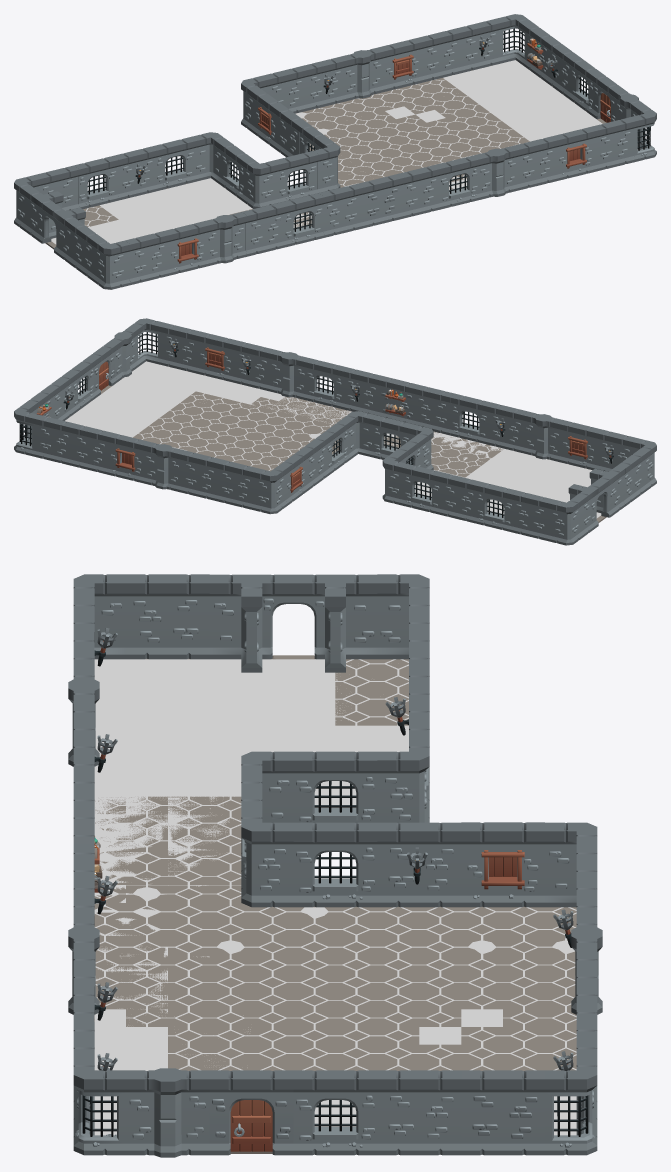
Rendered from Map_01.fbx.
3 views of the same model, one above another, from view 1: azimuth 30°, elevation 25°; view 2: azimuth 150°, elevation 25°; view 3: azimuth 270°, elevation 25° (orthographic). The views are drawn at different scales.
Parts seen in each view (by area): view 1: PlaneEnemyAI_Hide, SM_World_01_FloorTile_01.001, SM_World_01_WallDoorTsplit.003, SM_World_01_Wall.013, SM_World_01_WallPillar.012, SM_World_01_WallPillar.009, SM_World_01_WallShelves.002, SM_World_01_Wall.010, SM_World_01_WallWindow.003, SM_World_01_Wall.007, SM_World_01_Wall.008, SM_World_01_Wall.009 (+33 smaller); view 2: PlaneEnemyAI_Hide, SM_World_01_FloorTile_01.001, SM_World_01_WallDoorTsplit.003, SM_World_01_WallPillar.012, SM_World_01_WallPillar.010, SM_World_01_WallPillar.009, SM_World_01_WallWindow.003, SM_World_01_Wall.016, SM_World_01_Wall.020, SM_World_01_Wall.007, SM_World_01_Wall.009, SM_World_01_Wall.002 (+33 smaller); view 3: SM_World_01_FloorTile_01.001, PlaneEnemyAI_Hide, SM_World_01_WallDoorTsplit.003, SM_World_01_Wall.005, SM_World_01_Wall.011, SM_World_01_WallPillar.006, SM_World_01_WallWindow.002, SM_World_01_WallShelves.003, SM_World_01_Wall.023, SM_World_01_WallDoorway.002, SM_World_01_Wall_Archedwindow.001, SM_World_01_Wall_Archedwindow.009 (+23 smaller).
Part boxes in pixels (x1,y1,x2,y2): PlaneEnemyAI_Hide: [51, 60, 637, 244]; SM_World_01_FloorTile_01.001: [45, 65, 606, 249]; SM_World_01_WallDoorTsplit.003: [25, 188, 85, 263]; SM_World_01_Wall.013: [125, 231, 169, 284]; SM_World_01_WallPillar.012: [203, 212, 247, 265]; SM_World_01_WallPillar.009: [340, 47, 384, 101]; SM_World_01_WallShelves.002: [358, 174, 402, 227]; SM_World_01_Wall.010: [301, 57, 345, 110]; SM_World_01_WallWindow.003: [552, 127, 596, 180]; SM_World_01_Wall.007: [514, 136, 557, 190]; SM_World_01_Wall.008: [319, 183, 363, 237]; SM_World_01_Wall.009: [242, 202, 285, 256]; PlaneEnemyAI_Hide: [31, 361, 601, 518]; SM_World_01_FloorTile_01.001: [80, 371, 606, 522]; SM_World_01_WallDoorTsplit.003: [568, 466, 625, 536]; SM_World_01_WallPillar.012: [522, 411, 563, 461]; SM_World_01_WallPillar.010: [268, 349, 309, 399]; SM_World_01_WallPillar.009: [143, 441, 183, 491]; SM_World_01_WallWindow.003: [196, 331, 237, 381]; SM_World_01_Wall.016: [70, 423, 111, 474]; SM_World_01_Wall.020: [511, 490, 552, 540]; SM_World_01_Wall.007: [232, 340, 273, 390]; SM_World_01_Wall.009: [486, 402, 527, 452]; SM_World_01_Wall.002: [34, 415, 74, 465]; SM_World_01_FloorTile_01.001: [94, 655, 576, 1153]; PlaneEnemyAI_Hide: [94, 659, 576, 1135]; SM_World_01_WallDoorTsplit.003: [209, 574, 377, 672]; SM_World_01_Wall.005: [377, 1070, 461, 1155]; SM_World_01_Wall.011: [377, 822, 461, 907]; SM_World_01_WallPillar.006: [126, 1068, 209, 1157]; SM_World_01_WallWindow.002: [461, 822, 544, 907]; SM_World_01_WallShelves.003: [461, 1070, 544, 1155]; SM_World_01_Wall.023: [126, 574, 209, 659]; SM_World_01_WallDoorway.002: [209, 1070, 293, 1155]; SM_World_01_Wall_Archedwindow.001: [293, 1070, 377, 1155]; SM_World_01_Wall_Archedwindow.009: [293, 822, 377, 907].
Size of what is drawn, in the model's own units: 57.26 by 25.5 by 4.19.
